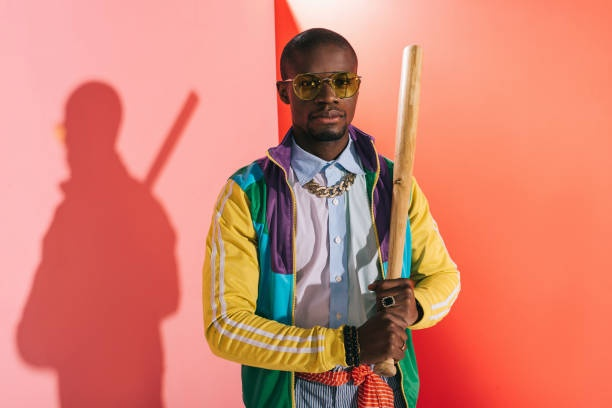bita: (385, 38, 425, 303)
